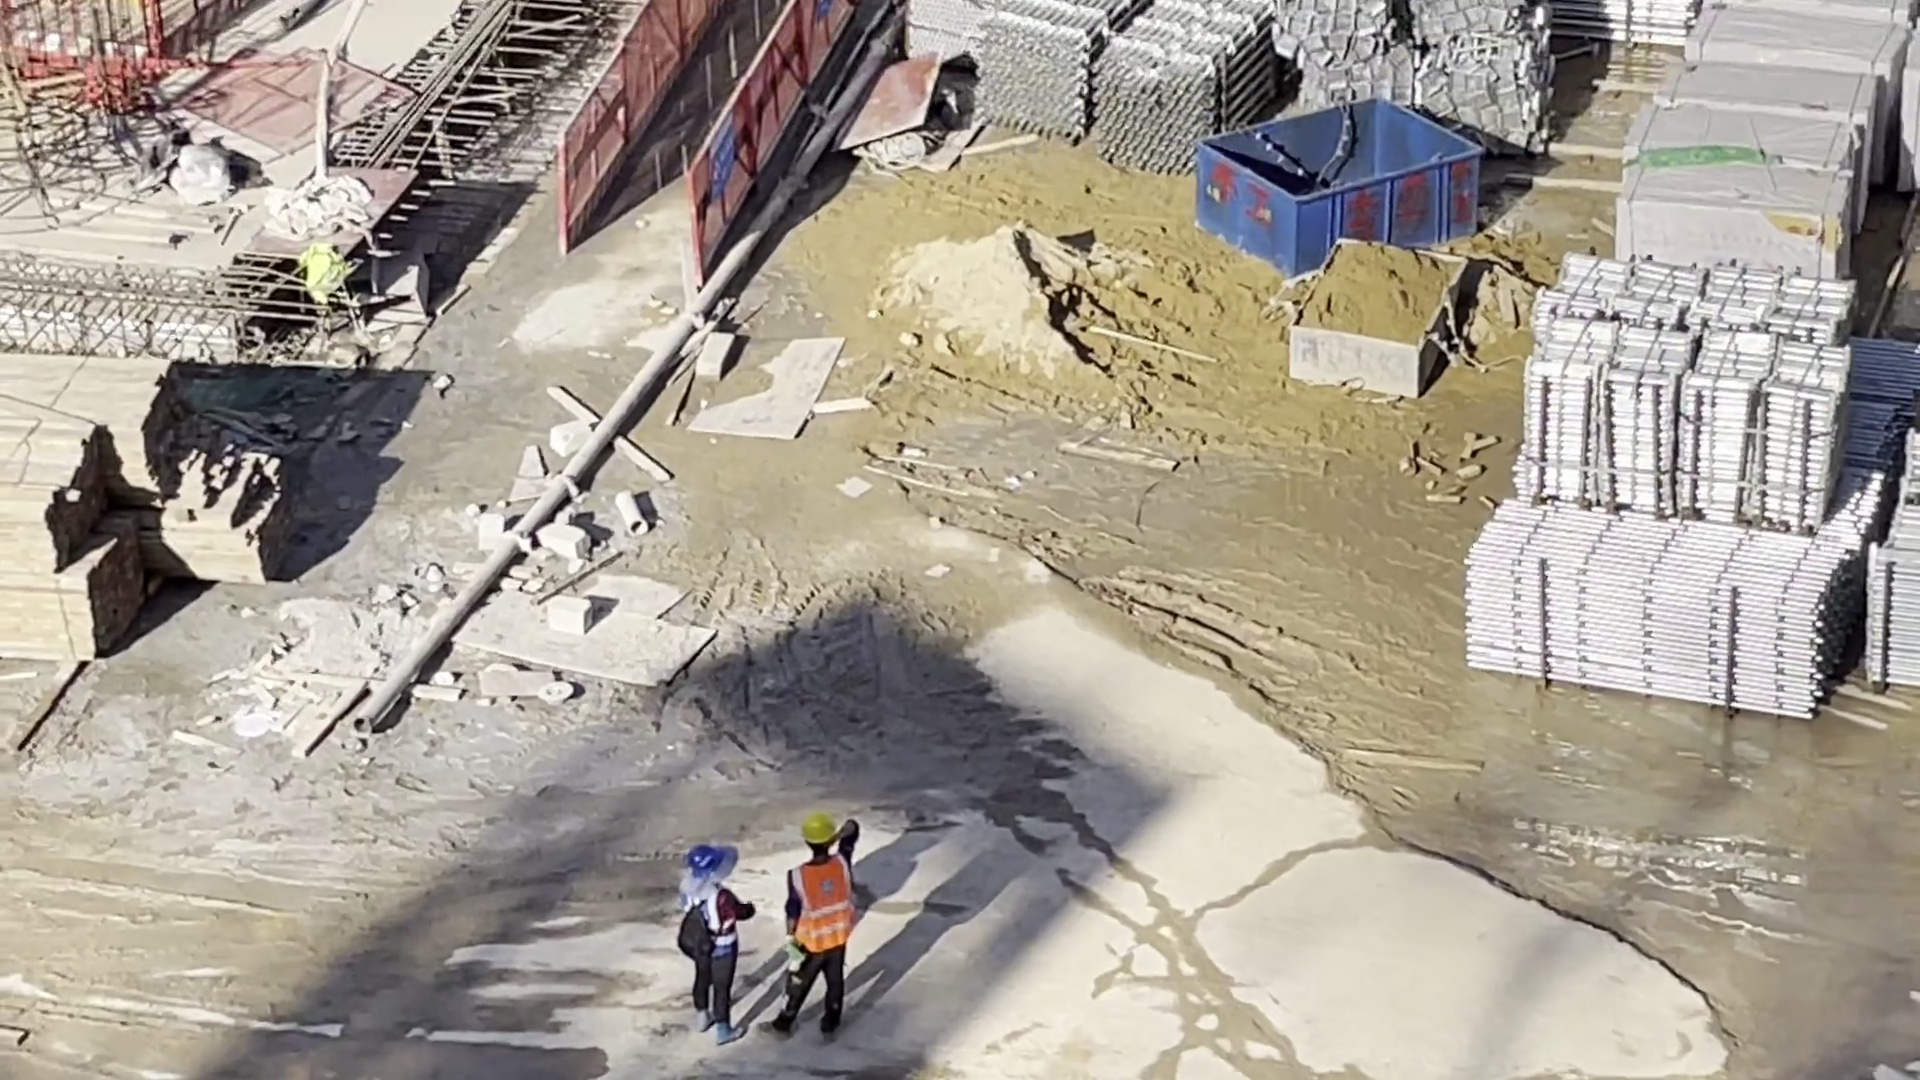fence: (566, 1, 854, 235)
helmet: (689, 845, 725, 875), (802, 814, 837, 843)
hopper: (1195, 100, 1476, 273), (1288, 242, 1467, 400)
person: (781, 824, 847, 1038), (682, 849, 748, 1041)
scaffold: (1517, 261, 1848, 518), (1463, 506, 1848, 727), (975, 1, 1281, 170), (1870, 433, 1920, 685)
slogan: (706, 115, 735, 199)
vest: (790, 856, 846, 949), (686, 889, 733, 946)
wood: (1, 354, 174, 643)
